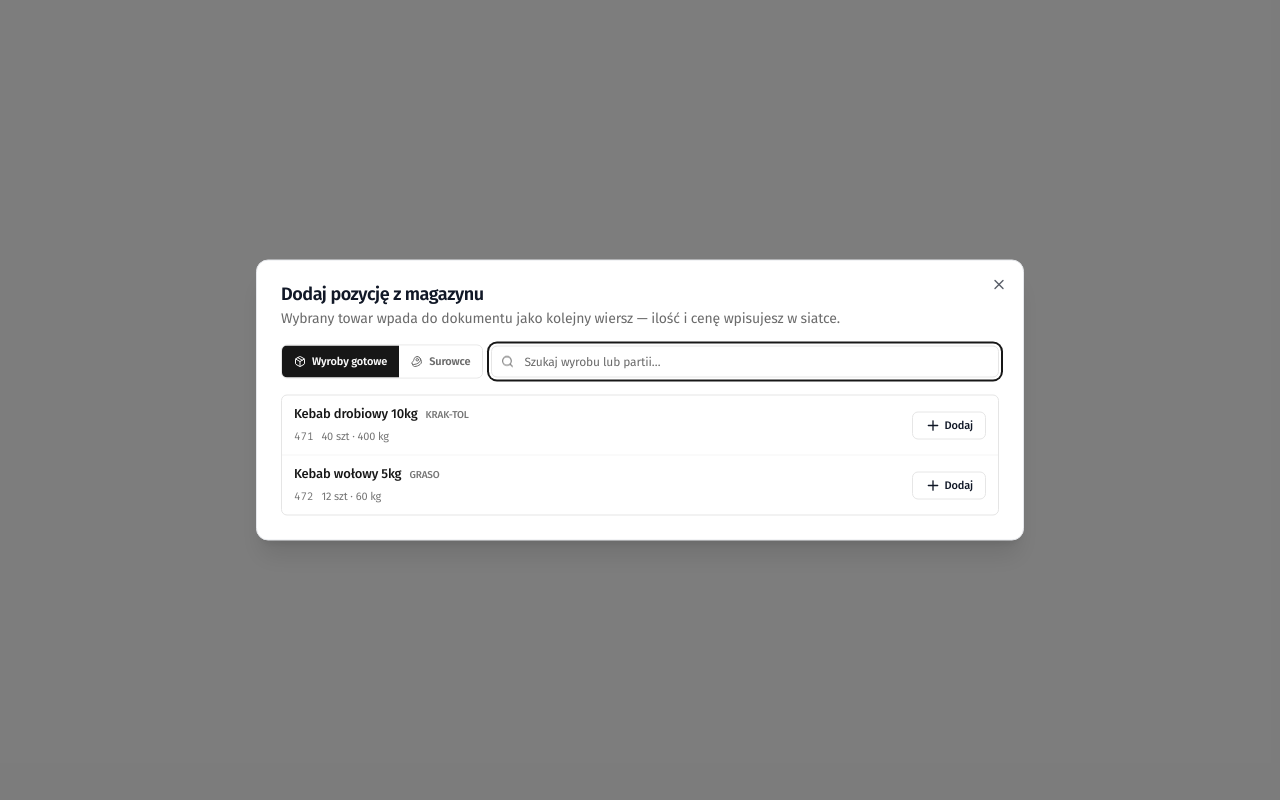
Test case: StockPickerDialog — wybór towaru na dokument › „Wszystkie" wraca do pełnego stanu magazynu
Click the button labelled "Surowce" at (441, 362), box [399,346,482,378]
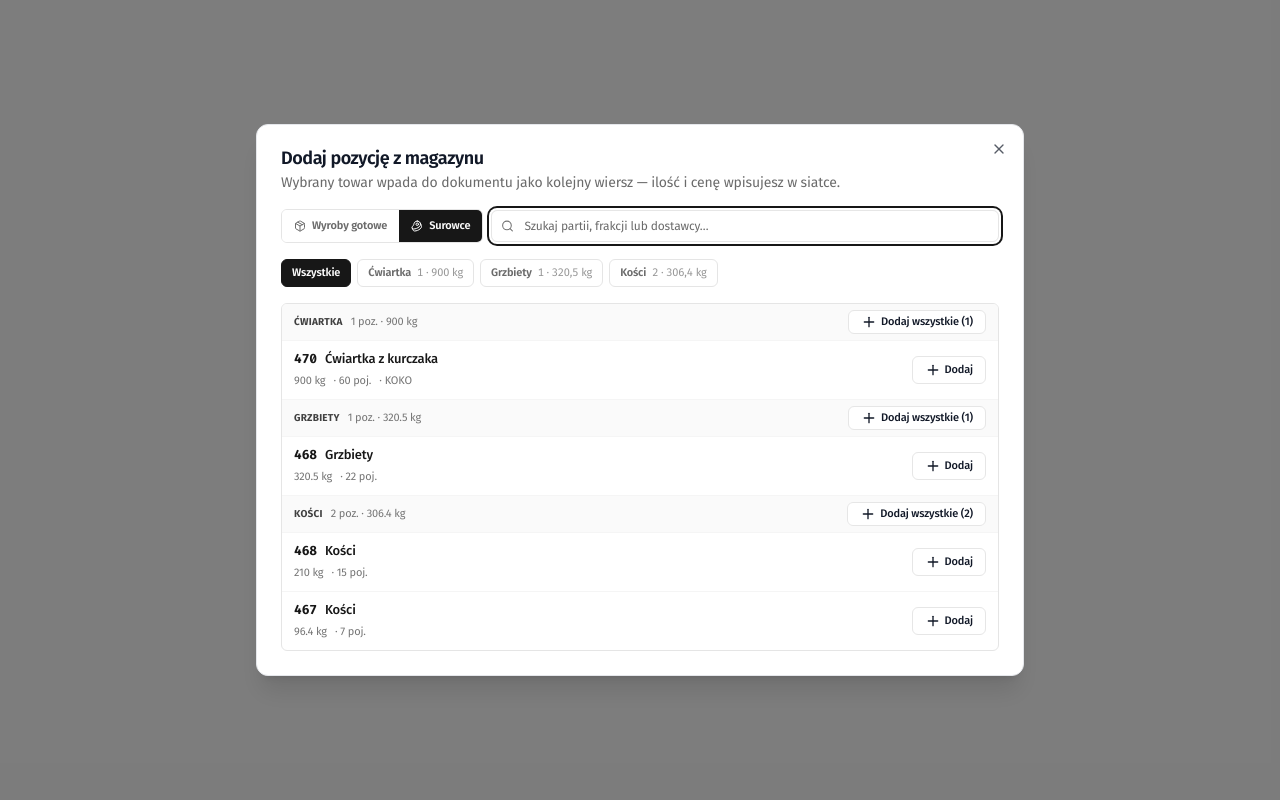
Click the button with aria-label "Filtruj Kości" at (663, 273), box [609,259,718,287]
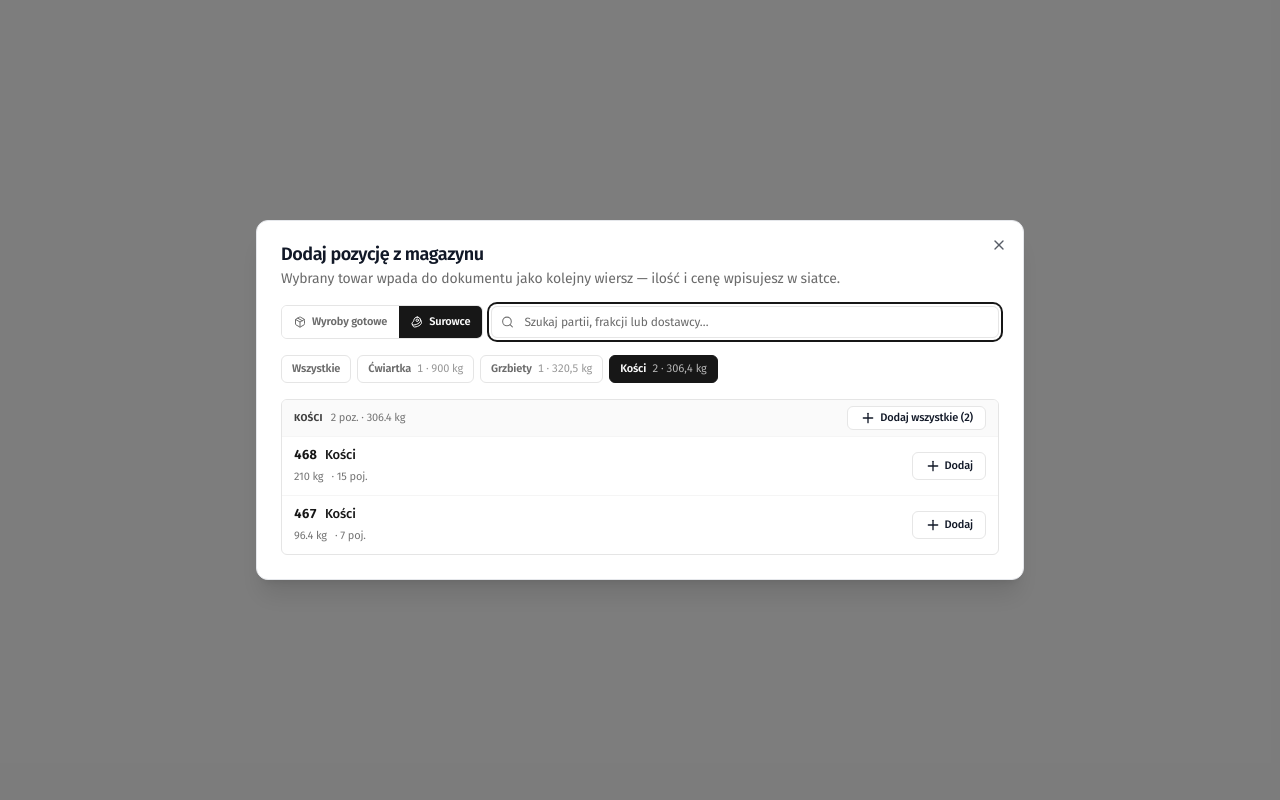
Click the button with aria-label "Filtruj wszystkie frakcje" at (316, 369), box [281,355,351,383]
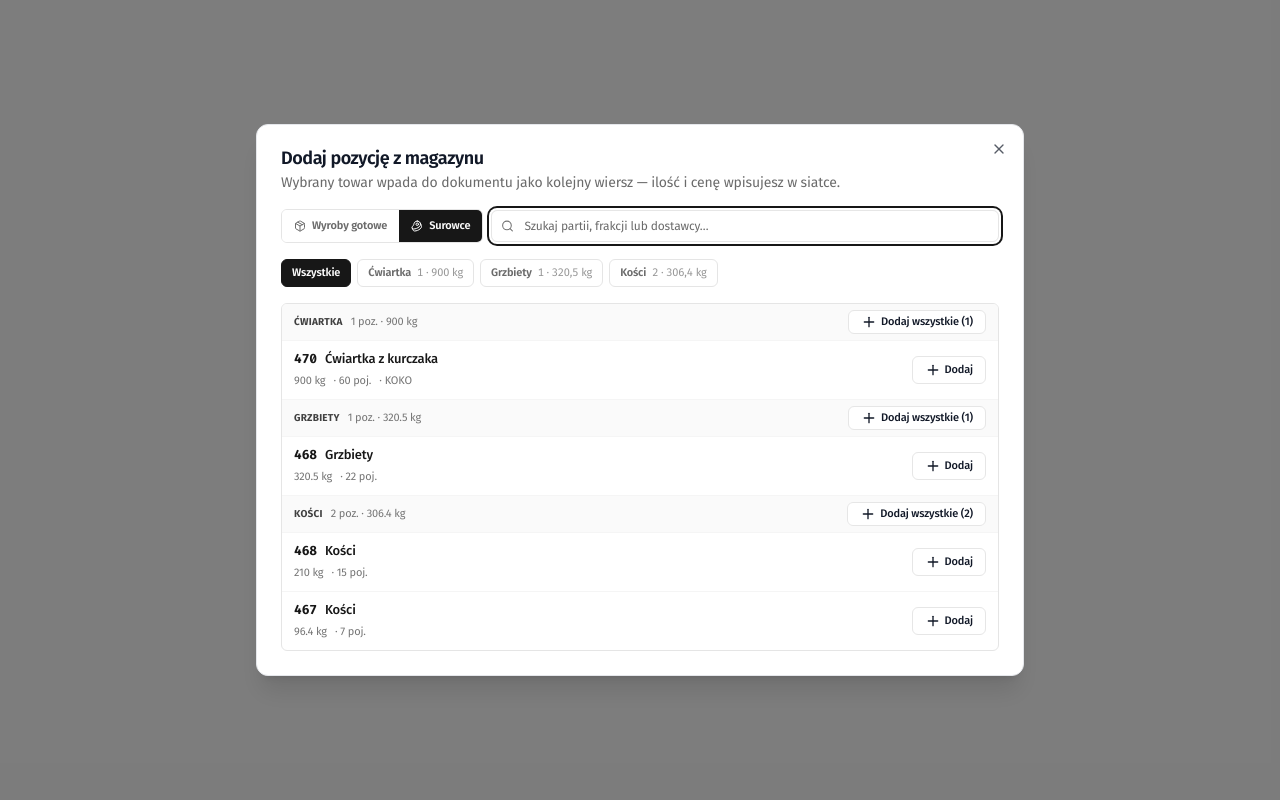
Expected: the button with aria-label "Dodaj r2" is shown, [912,452,986,480]
Now the button with aria-label "Dodaj r1" is shown, box [912,356,986,384]
